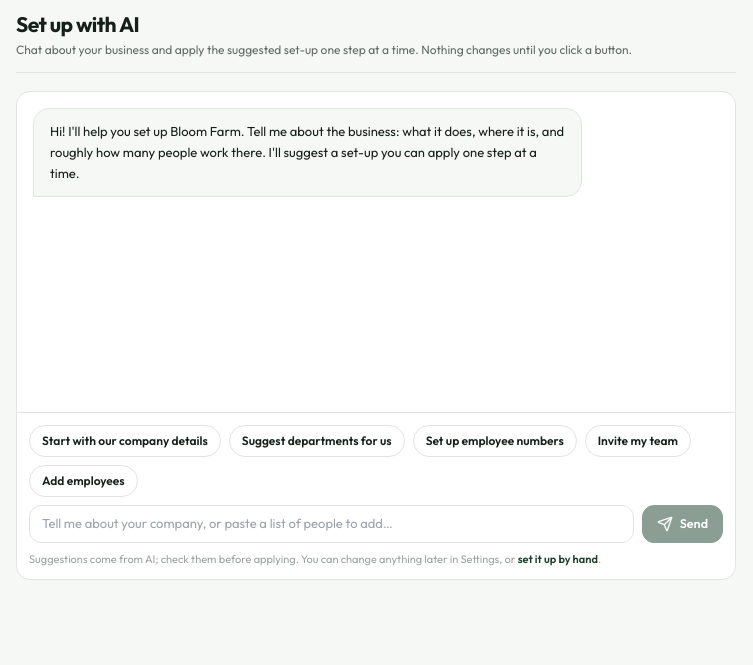
Set up with AI › shows employees to add as a table, and keeps Apply off until each department exists
Replace the text in the text box named "Message" with "Add Jane Wanjiru (jane@bloom.co.ke, Finance) and Otieno Juma (otieno@bloom.co.ke, Farm)". click: [331, 524]
box: [29, 505, 634, 542]
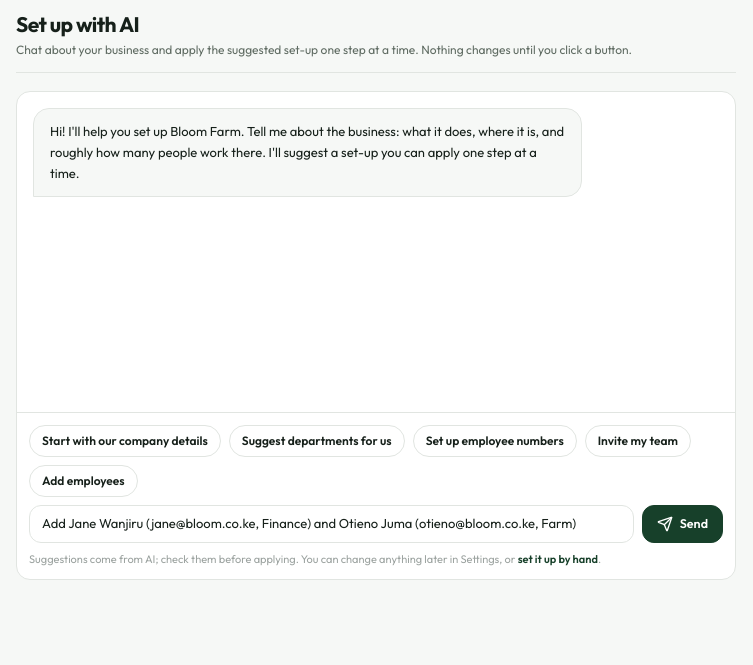
Click the button "Send". click: [682, 524]
box: [642, 505, 723, 542]
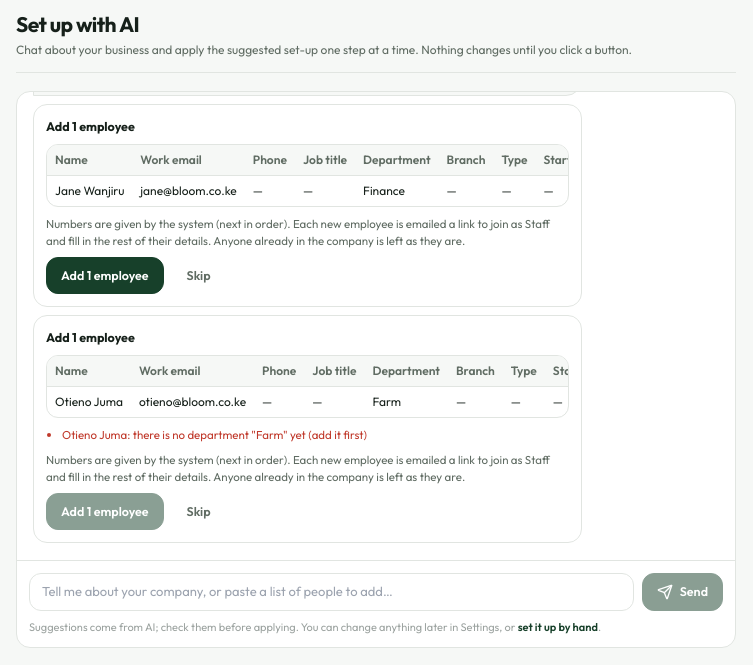
Result: the cell "Jane Wanjiru" is shown at [47, 175, 132, 206]
Result: the number of column headings "Work email" is 2 at [132, 144, 245, 175]; [131, 356, 254, 386]
Result: the list item "Otieno Juma: there is no department \"Farm\" yet (add it first)" is shown at [62, 426, 367, 442]
Click the button "Add 1 employee" below "Jane Wanjiru". click: [105, 275]
box: [46, 257, 164, 294]
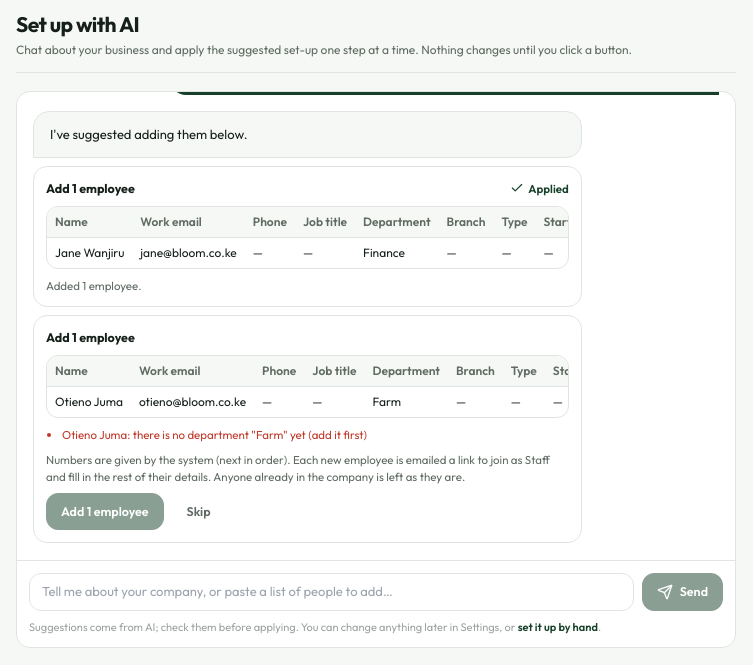
Result: the text "Added 1 employee." is shown at [46, 278, 142, 292]
